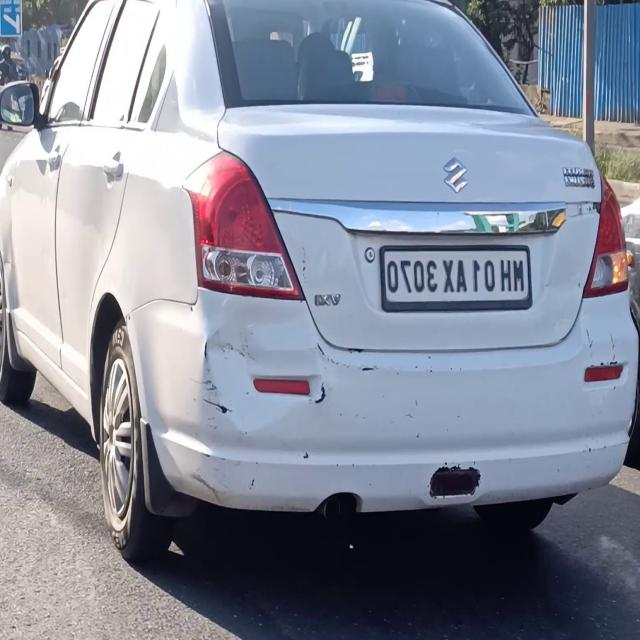license_plate: (379, 238, 536, 318)
